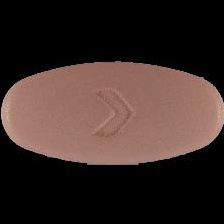0591-2318: (0, 0, 224, 224)
